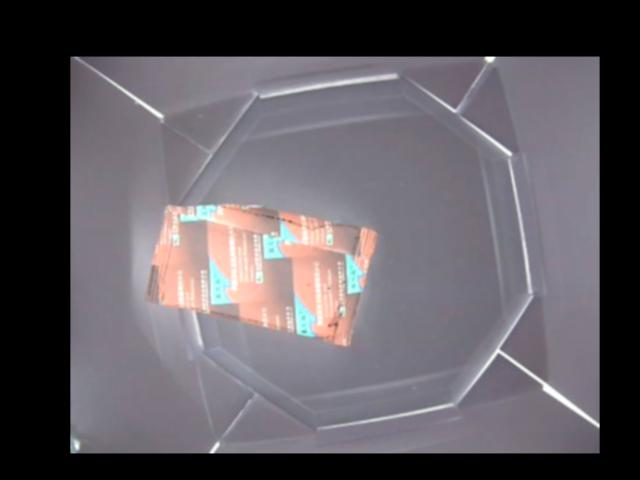Medicine: (143, 201, 378, 344)
